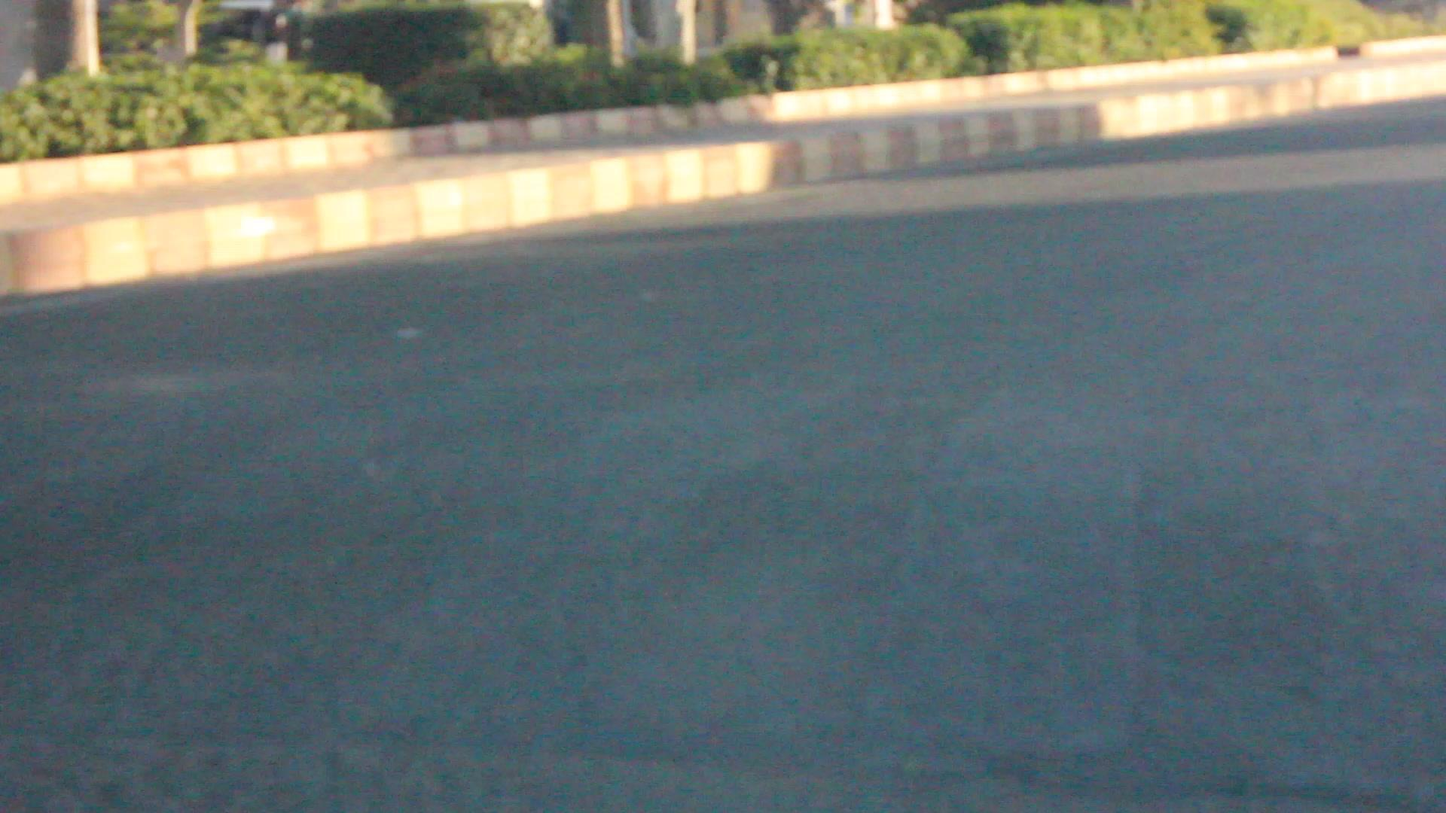Bump: (2, 356, 1446, 711)
